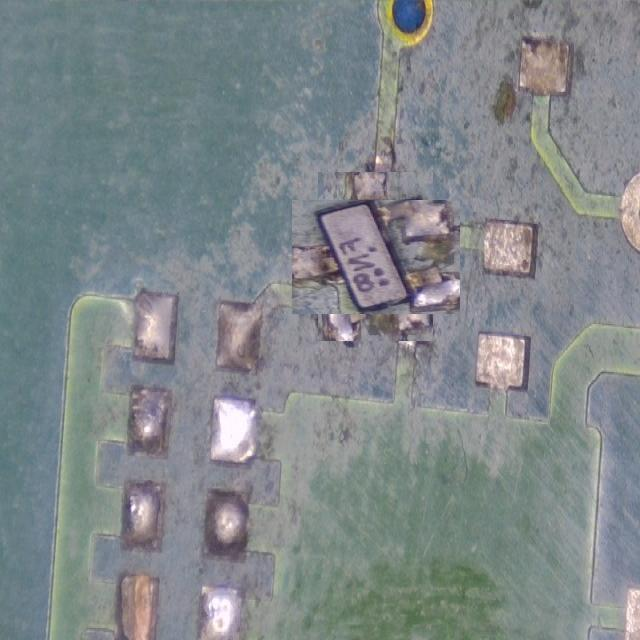Incorrect_installation: (292, 200, 460, 313)
